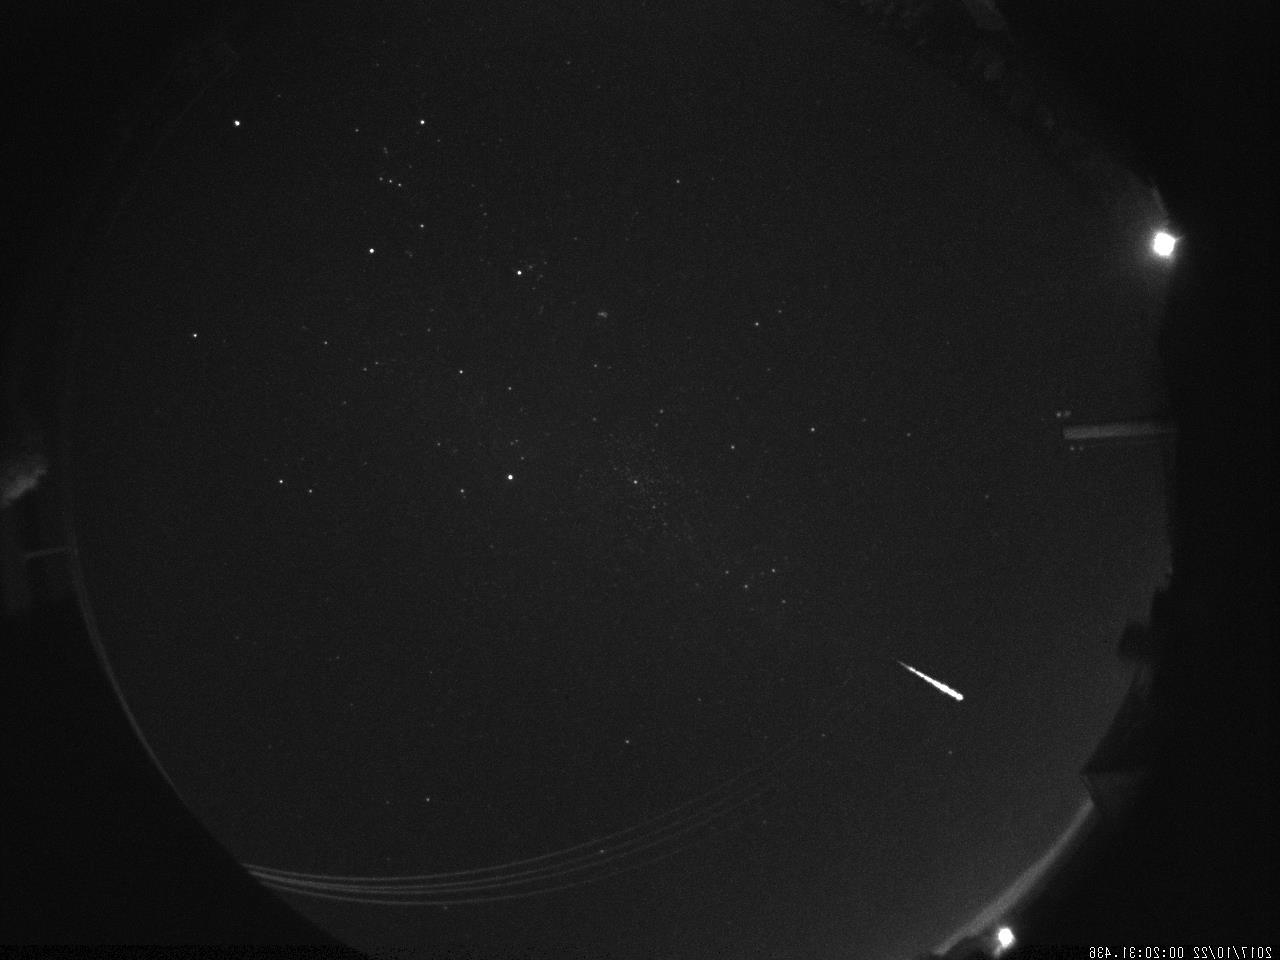meteor: (900, 655, 969, 709)
